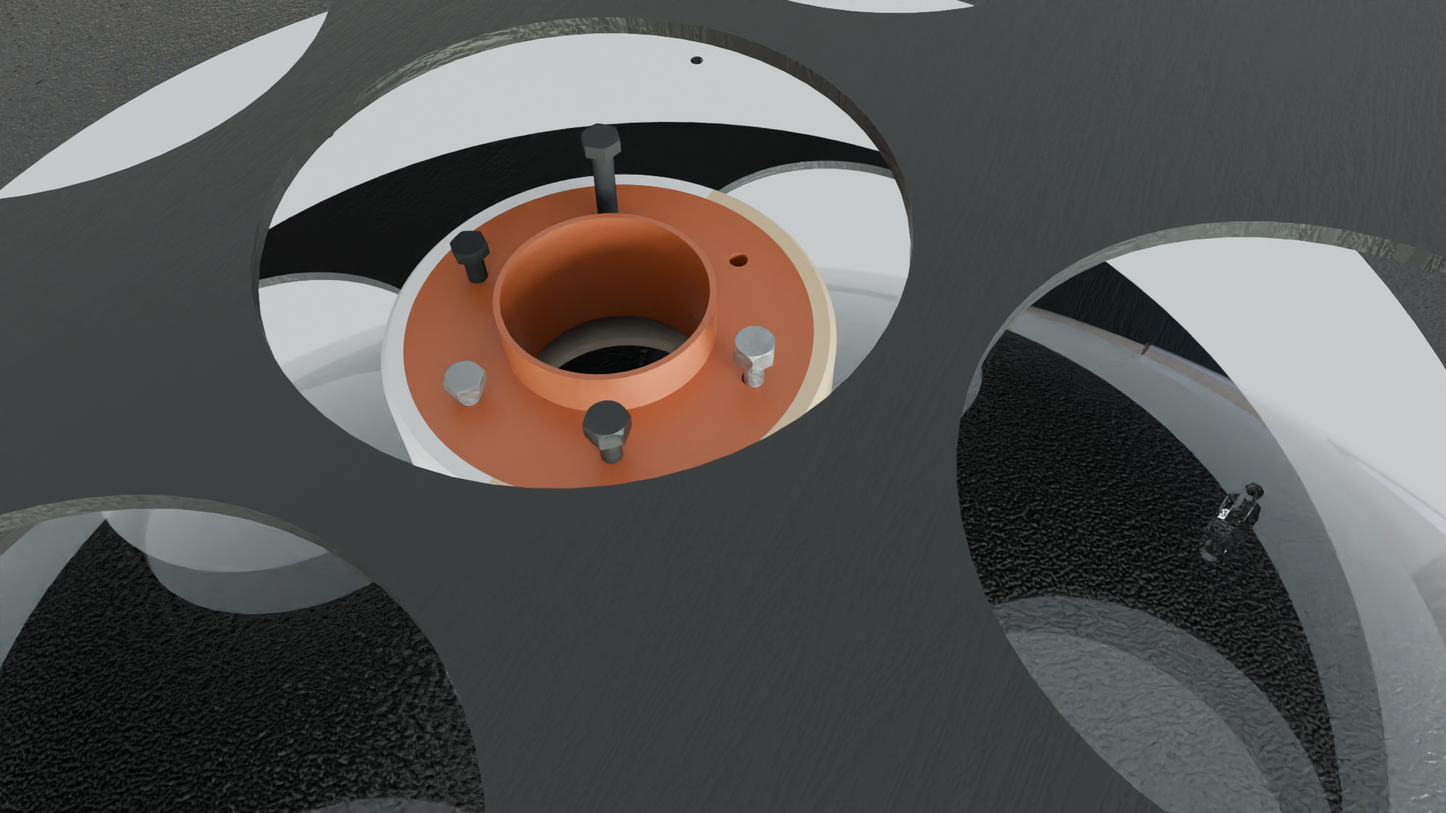bolt: (582, 400, 631, 440), (734, 326, 775, 362), (443, 360, 485, 394), (581, 123, 620, 151), (450, 230, 487, 256)
